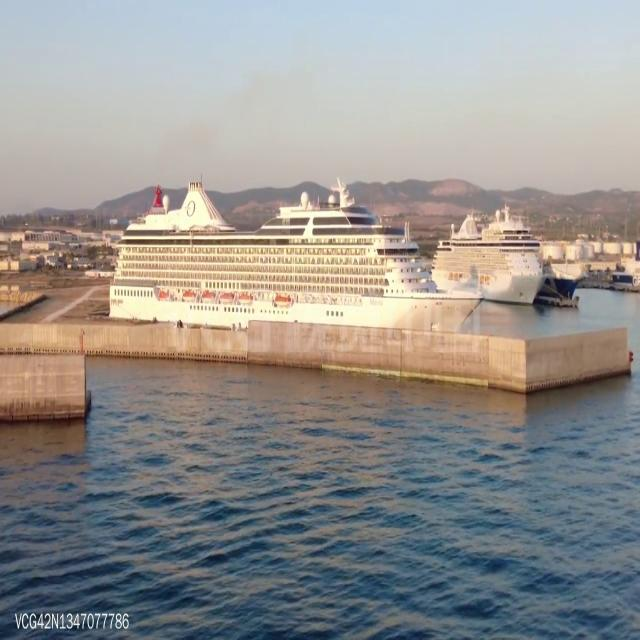passenger ship: (113, 178, 486, 334), (428, 202, 548, 306)
